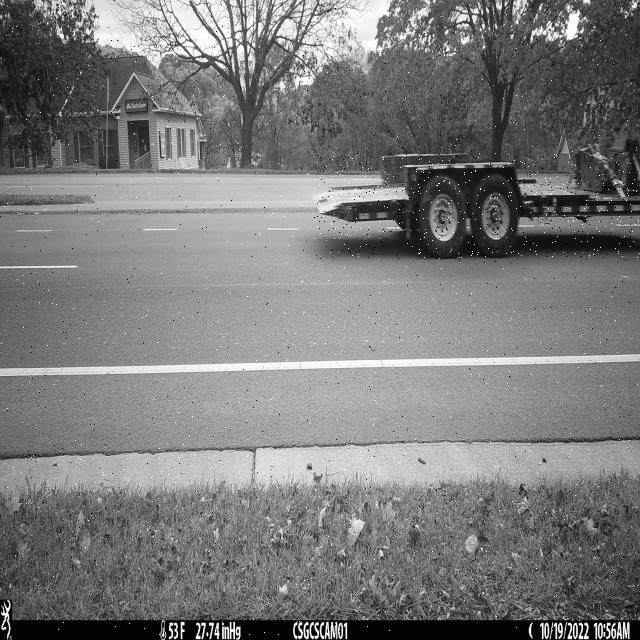Trailer: (314, 153, 640, 259)
